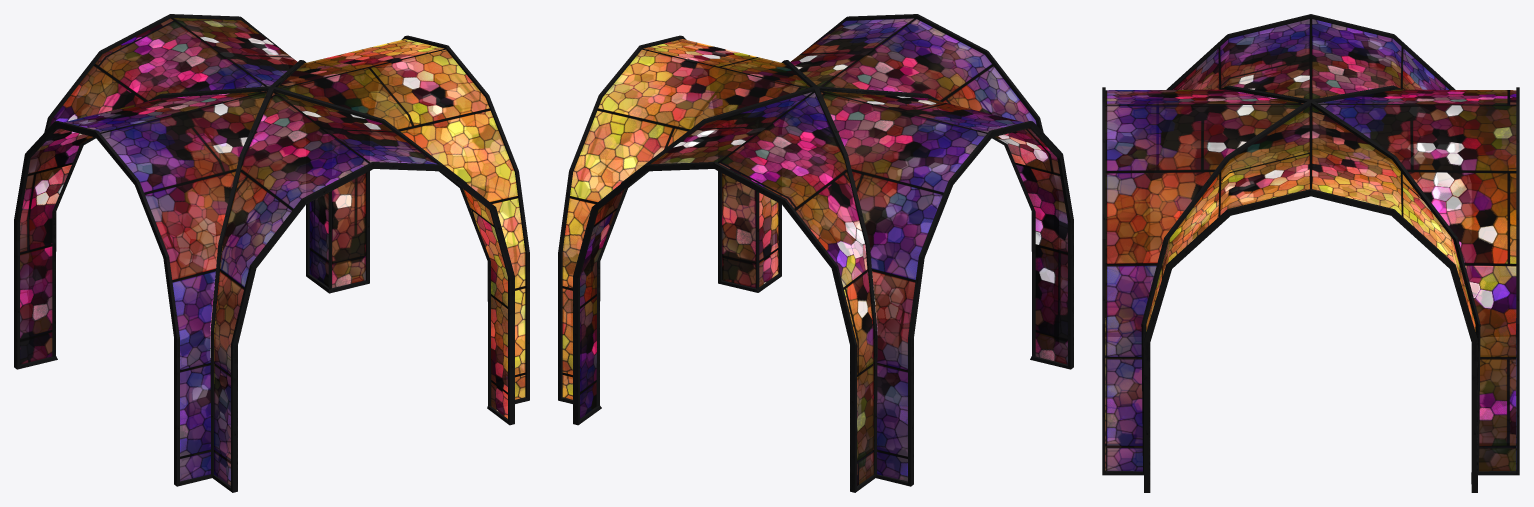
File: Iron_Structure_01_Art.glb
The picture shows the model from 3 angles, left to right: view 1: azimuth 30°, elevation 25°; view 2: azimuth 150°, elevation 25°; view 3: azimuth 270°, elevation 25°; orthographic projection. The views are drawn at different scales.
Parts seen in each view (by area): view 1: Iron_Structure_01_Art; view 2: Iron_Structure_01_Art; view 3: Iron_Structure_01_Art.
Boxes of the visible parts, <box> form: Iron_Structure_01_Art: <box>14,14,529,492</box>; Iron_Structure_01_Art: <box>558,14,1073,492</box>; Iron_Structure_01_Art: <box>1102,14,1519,492</box>.
Size of the model in its own units: 7.5 by 6.02 by 7.5.
Materials: 2 (2 with a texture image).
